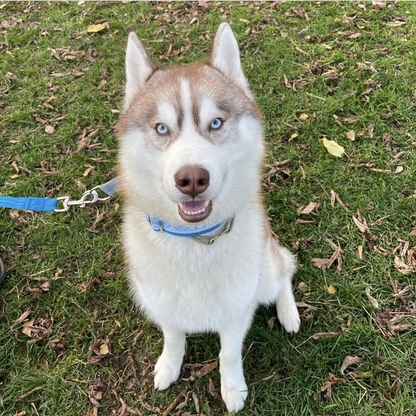husky: (105, 18, 308, 416)
